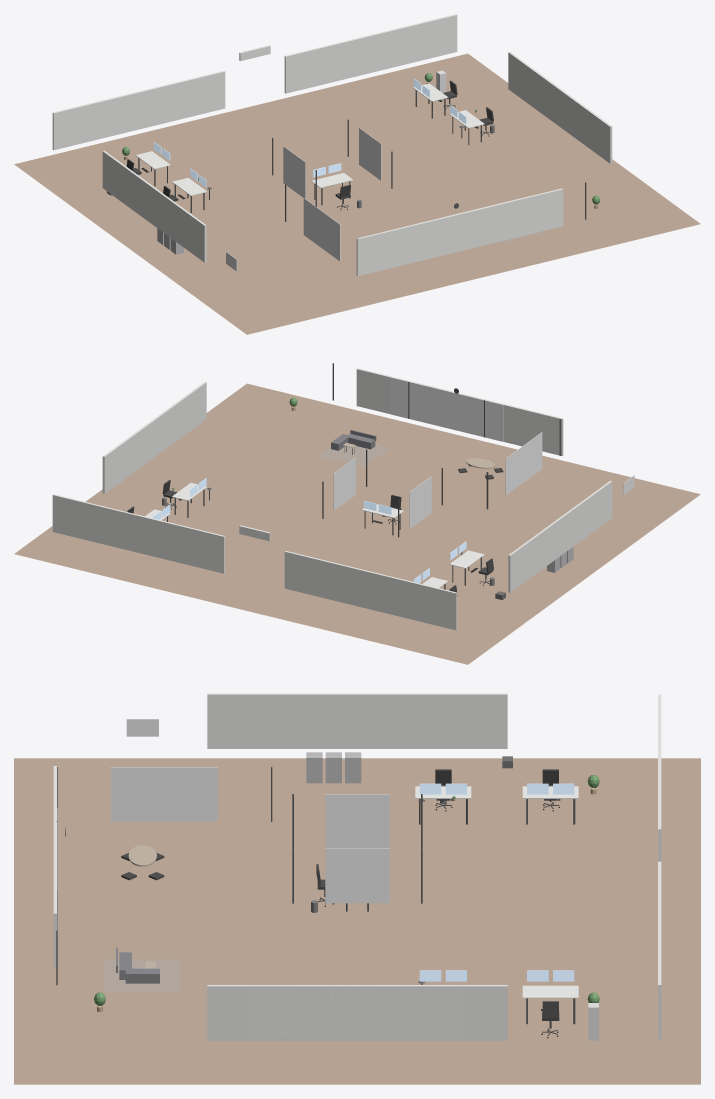
The model's file is office_v18.glb.
The picture shows the model from 3 angles, top to bottom: view 1: azimuth 30°, elevation 25°; view 2: azimuth 150°, elevation 25°; view 3: azimuth 270°, elevation 25°; orthographic projection. The views are drawn at different scales.
Parts seen in each view (by area): view 1: Plane, Cube, Cube.001, Cube.002, Cube.004, Cube.005, Cube.013, Cube.011, Cube.012; view 2: Plane, Cube.002, Cube.001, Cube.014, Cube.004, Cube.005, Cube, Cube.013, Cube.012, Cube.011, Plane.001; view 3: Plane, Cube.004, Cube.005, Cube.013, Cube.006, Cube.012, Cube.011, Plane.001, Cube, Cube.077, Cube.002.
Boxes of the visible parts, x1=… form: Plane: x1=14, y1=53, x2=700, y2=334; Cube: x1=356, y1=188, x2=563, y2=275; Cube.001: x1=52, y1=71, x2=225, y2=150; Cube.002: x1=284, y1=14, x2=457, y2=93; Cube.004: x1=102, y1=150, x2=206, y2=262; Cube.005: x1=508, y1=52, x2=612, y2=163; Cube.013: x1=303, y1=198, x2=340, y2=261; Cube.011: x1=283, y1=146, x2=305, y2=198; Cube.012: x1=359, y1=127, x2=381, y2=180; Plane: x1=14, y1=383, x2=700, y2=664; Cube.002: x1=52, y1=494, x2=225, y2=573; Cube.001: x1=284, y1=551, x2=457, y2=630; Cube.014: x1=390, y1=377, x2=503, y2=441; Cube.004: x1=508, y1=480, x2=612, y2=592; Cube.005: x1=102, y1=382, x2=206, y2=493; Cube: x1=356, y1=368, x2=563, y2=455; Cube.013: x1=505, y1=432, x2=542, y2=495; Cube.012: x1=333, y1=457, x2=355, y2=510; Cube.011: x1=409, y1=476, x2=431, y2=528; Plane.001: x1=319, y1=444, x2=389, y2=466; Plane: x1=14, y1=758, x2=700, y2=1084; Cube.004: x1=207, y1=693, x2=507, y2=748; Cube.005: x1=207, y1=985, x2=507, y2=1040; Cube.013: x1=110, y1=767, x2=217, y2=821; Cube.006: x1=250, y1=989, x2=464, y2=1037; Cube.012: x1=325, y1=848, x2=389, y2=903; Cube.011: x1=325, y1=794, x2=389, y2=848; Plane.001: x1=104, y1=959, x2=181, y2=991; Cube: x1=53, y1=766, x2=56, y2=968; Cube.077: x1=522, y1=985, x2=578, y2=998; Cube.002: x1=658, y1=861, x2=661, y2=1039.
Size of the model in its own units: 18 by 2.65 by 16.
